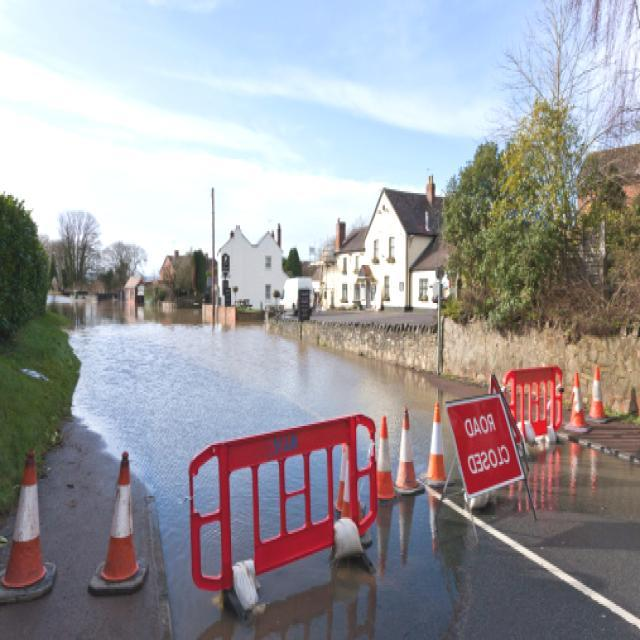traffic cone: (0, 449, 58, 606), (87, 451, 148, 596), (419, 401, 456, 488), (393, 406, 425, 496), (374, 415, 397, 501), (563, 372, 594, 434), (586, 365, 613, 424), (628, 387, 640, 418)
